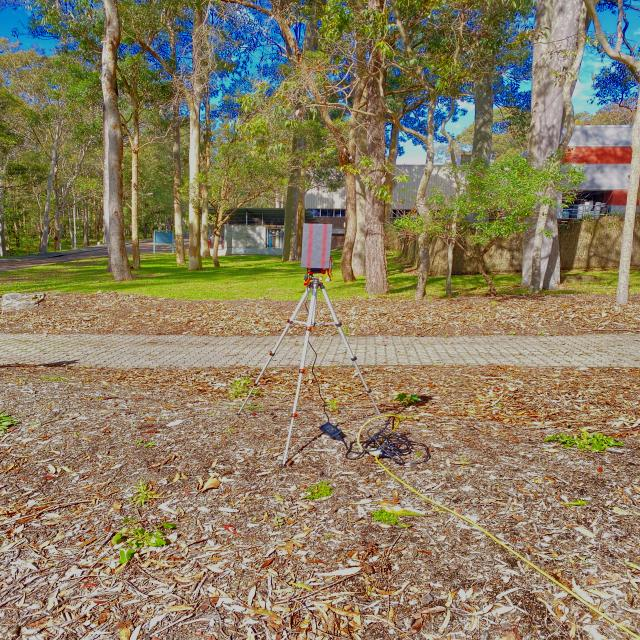matrix: (295, 218, 340, 272)
